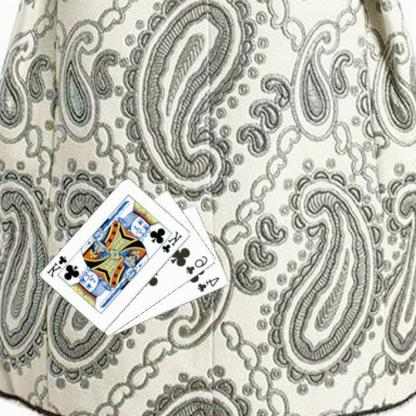4C: (197, 274, 223, 294)
6C: (185, 253, 211, 276)
KC: (156, 228, 186, 254), (46, 252, 76, 278)
